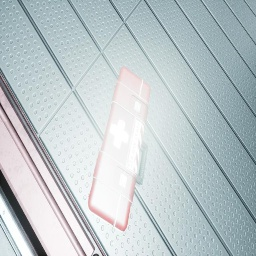FirstAidBox ,: (88, 67, 150, 232)
